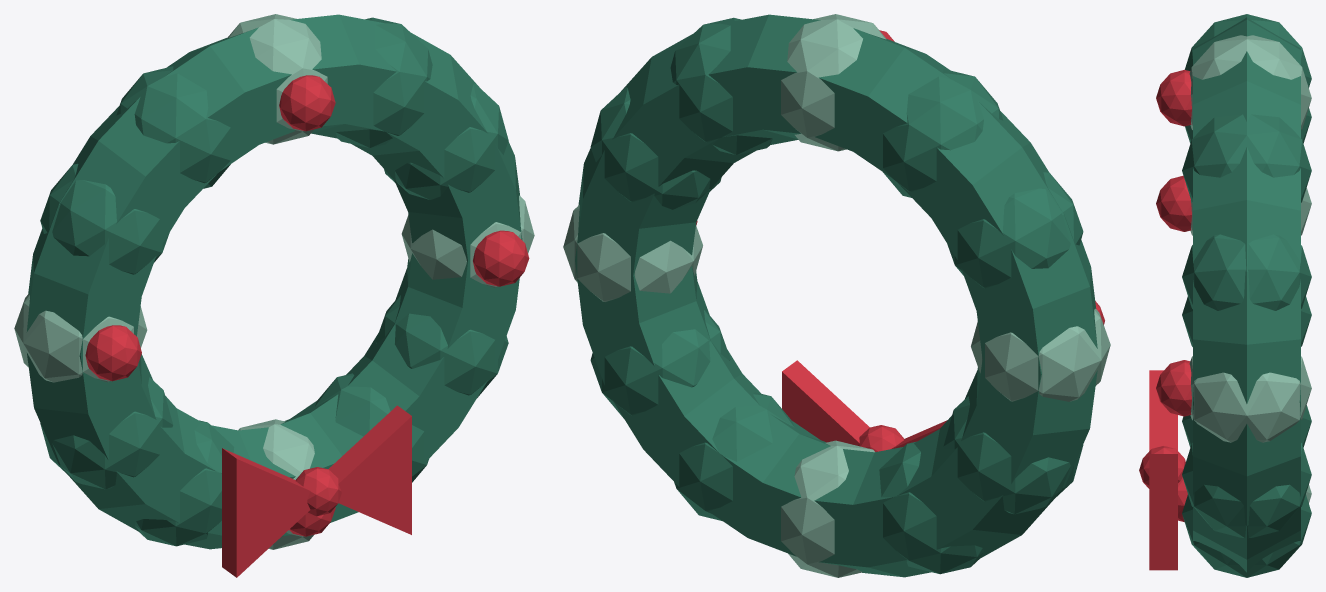
Rendered from north-pole-village-holiday-wreath-8787e4ed__25418.glb.
The picture shows the model from 3 angles, left to right: view 1: azimuth 30°, elevation 25°; view 2: azimuth 150°, elevation 25°; view 3: azimuth 270°, elevation 25°; orthographic projection. The views are drawn at different scales.
Parts seen in each view (by area): view 1: holiday-wreath; view 2: holiday-wreath; view 3: holiday-wreath.
Part boxes in pixels (x1,y1,x2,y2): holiday-wreath: [14, 14, 534, 577]; holiday-wreath: [563, 14, 1110, 577]; holiday-wreath: [1139, 14, 1311, 577].
Bounding box in the file's own units: 1.09 × 1.09 × 0.3325.
